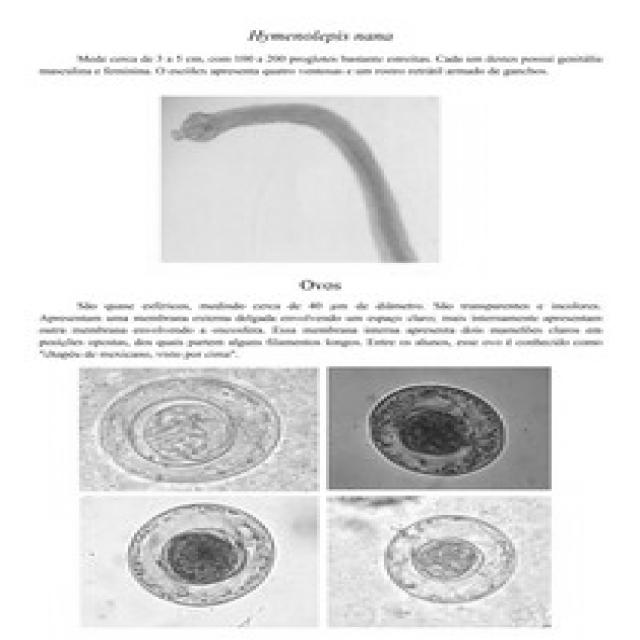Hymenolepis: (91, 370, 286, 488), (117, 500, 279, 610), (369, 382, 512, 480), (380, 513, 522, 605)
